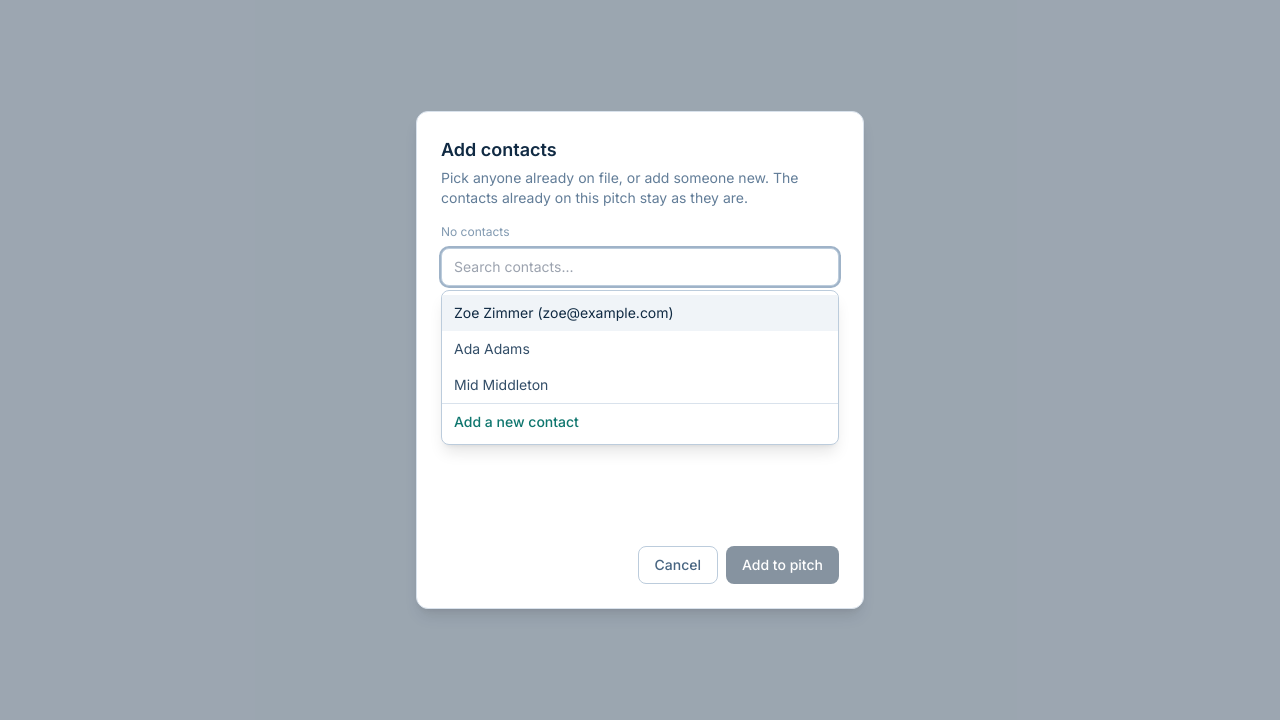
Test: AddPitchContactsModal › Escape over the quick-create dialog closes only that dialog
The image size is (1280, 720).
Step 1. Type "Nora" into the dropdown named "Add contact" → coordinates (640, 267), box [441, 248, 839, 286]
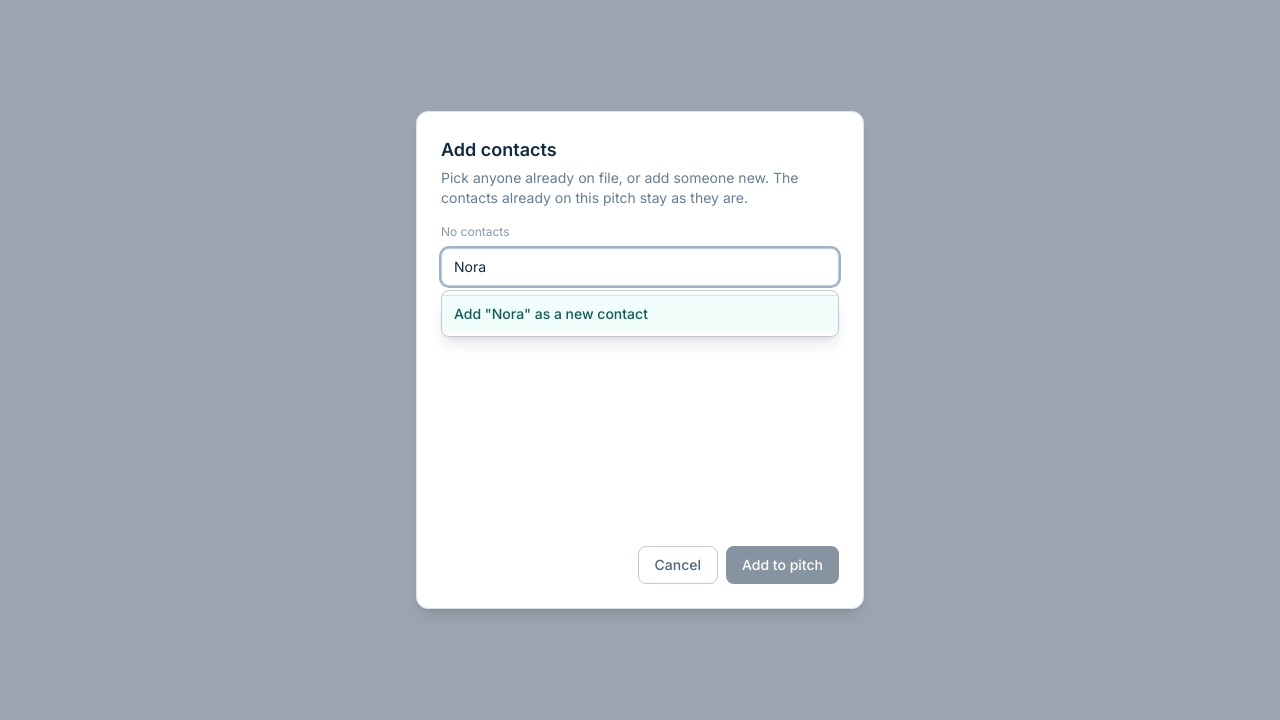
Step 2. Click the option "Add \"Nora\" as a new contact" → coordinates (640, 314), box [442, 295, 838, 332]
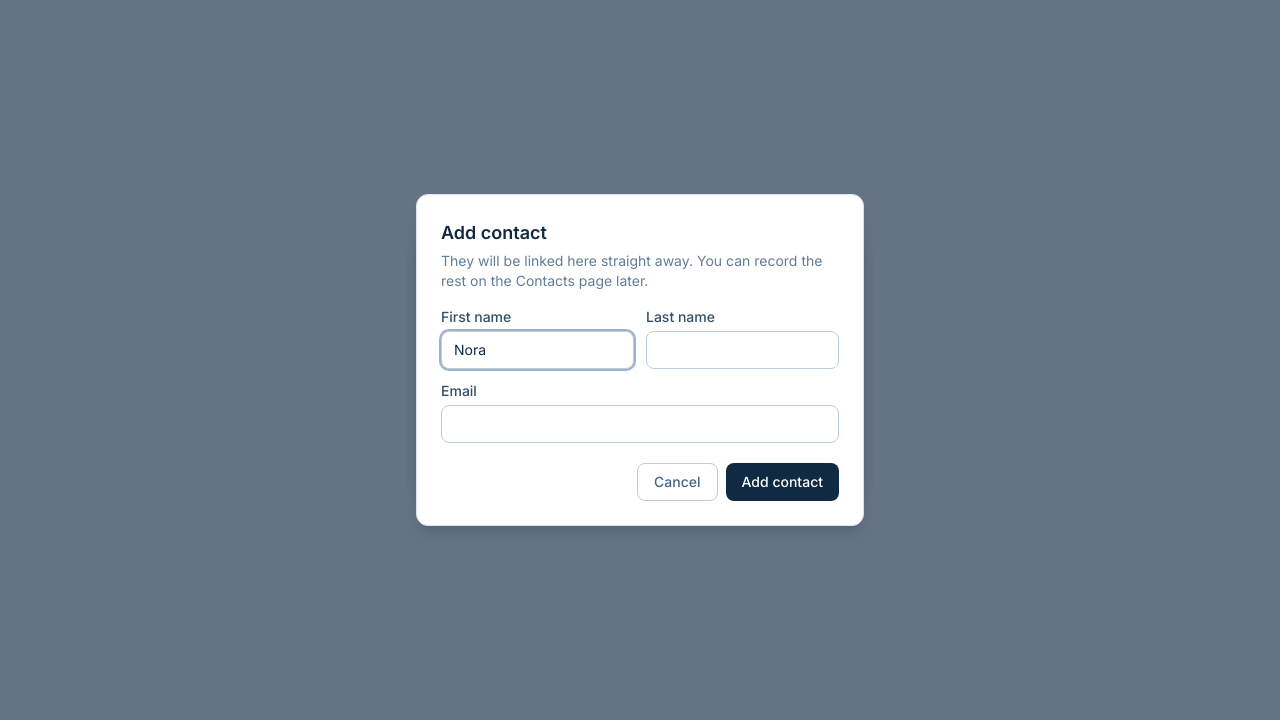
Step 3. Press Escape
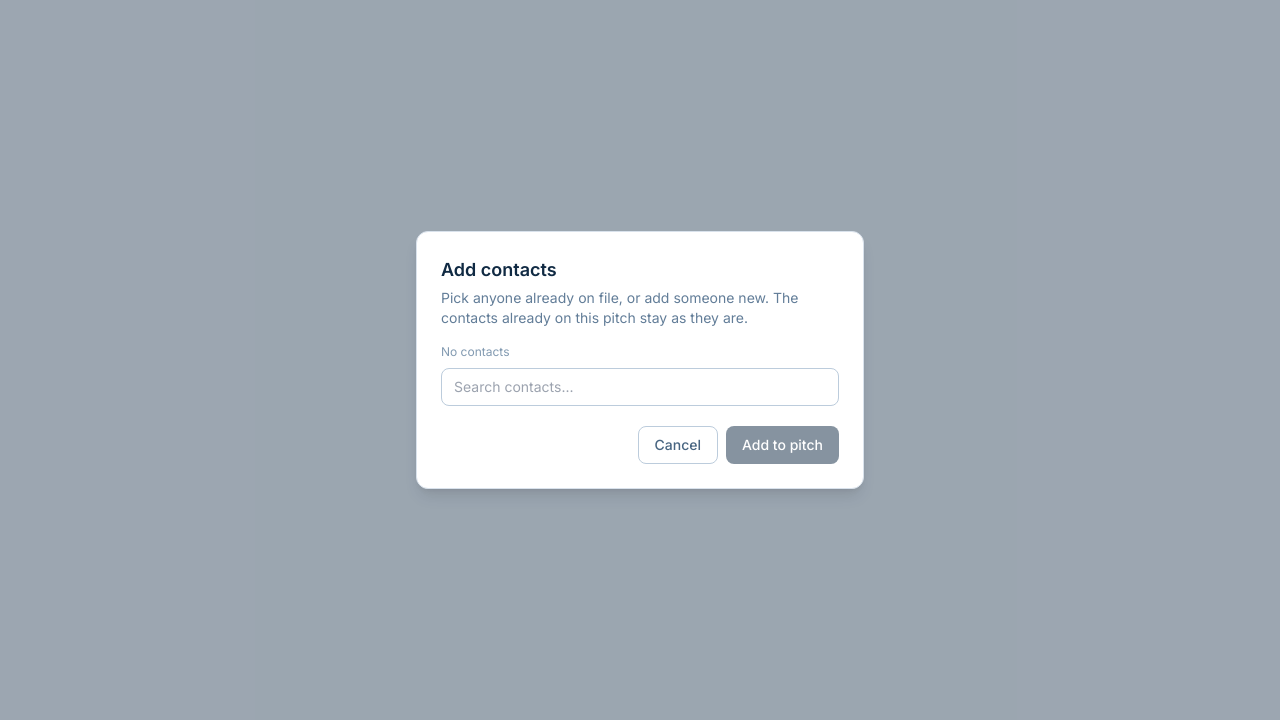
Expected: the dropdown named "Add contact" is shown, [441, 368, 839, 406]
Expected: the element with test id "contact-quick-create-overlay" is gone
